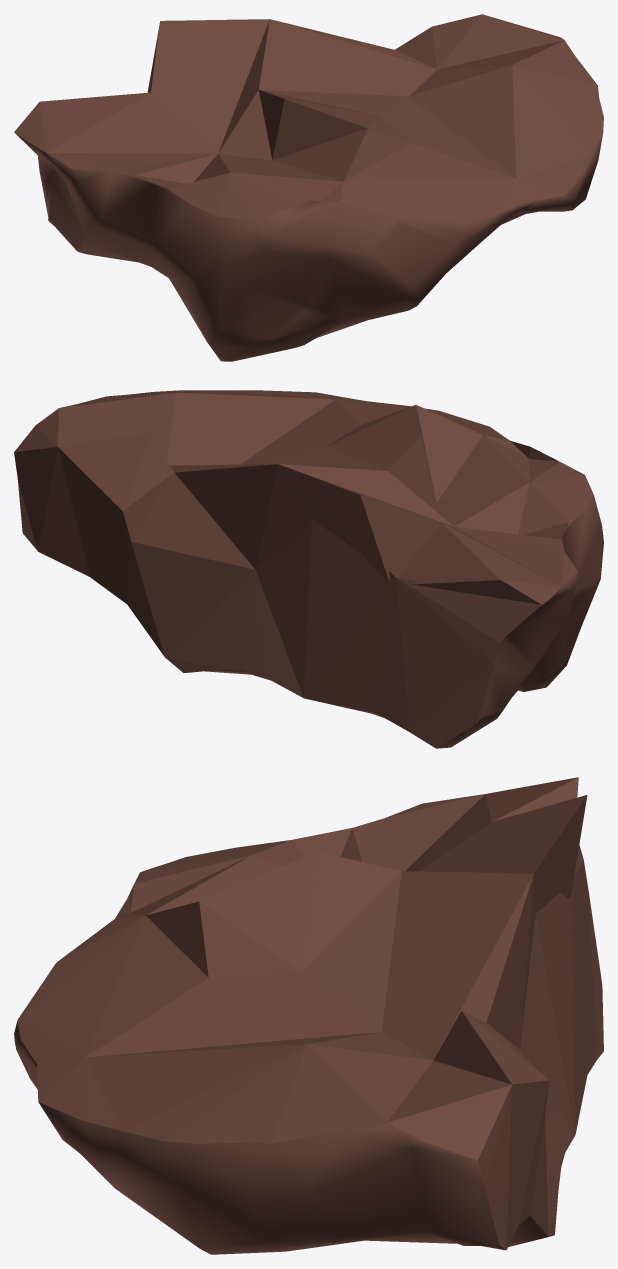
Rendered from p_mesh_hvs_rock_medium01_destruction_part05.fbx.
3 renders of one model, top to bottom at view 1: azimuth 30°, elevation 25°; view 2: azimuth 150°, elevation 25°; view 3: azimuth 270°, elevation 25°, orthographic. The views are drawn at different scales.
Parts seen in each view (by area): view 1: p_medium_destruction_part05; view 2: p_medium_destruction_part05; view 3: p_medium_destruction_part05.
Boxes of the visible parts, x1,y1,x2,y2 form: p_medium_destruction_part05: (14,14,603,361); p_medium_destruction_part05: (14,390,603,748); p_medium_destruction_part05: (14,777,603,1254).
Size of the model in its own units: 9.42 by 4.39 by 6.36.
